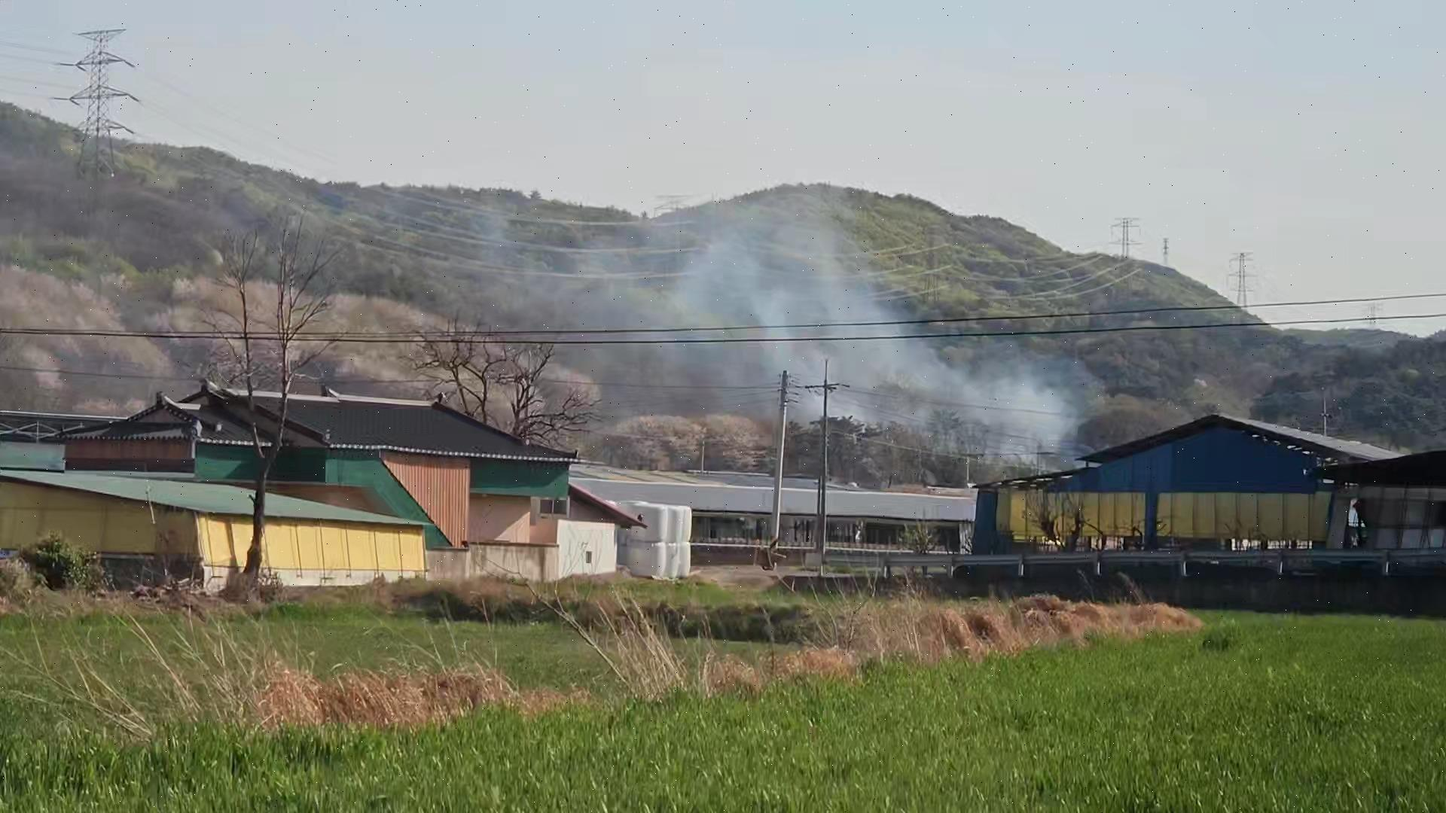smoke: (589, 176, 1107, 478)
